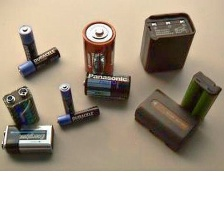battery: (79, 19, 118, 88), (0, 82, 43, 135), (0, 123, 55, 156), (15, 42, 65, 78), (80, 72, 135, 103), (176, 73, 206, 125), (15, 22, 41, 69), (187, 84, 215, 127), (55, 104, 103, 129), (56, 80, 78, 120)
